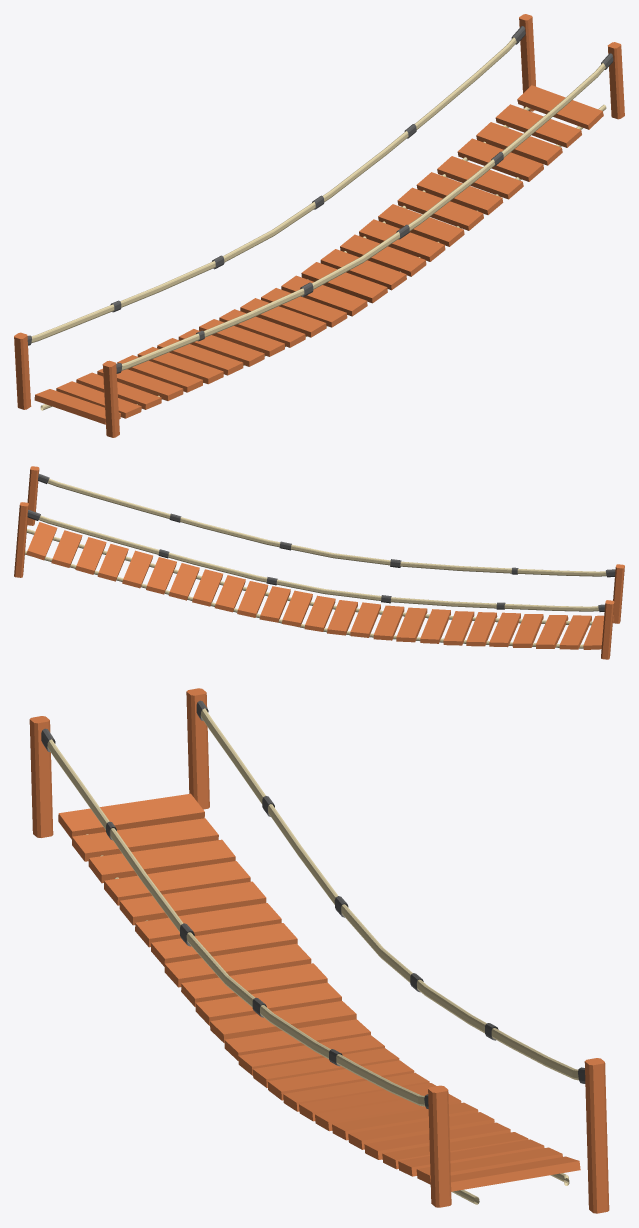
The model's file is Portal to Main Bridge.fbx.
3 views of the same model, one above another, from view 1: azimuth 30°, elevation 25°; view 2: azimuth 150°, elevation 25°; view 3: azimuth 270°, elevation 25° (orthographic). The views are drawn at different scales.
Visible parts, largest first — view 1: Portal To Main Bridge; view 2: Portal To Main Bridge; view 3: Portal To Main Bridge.
Boxes of the visible parts, <box> form: Portal To Main Bridge: <box>14,14,624,437</box>; Portal To Main Bridge: <box>14,466,624,659</box>; Portal To Main Bridge: <box>29,688,609,1213</box>.
Bounding box in the file's own units: 880 × 183 × 419.
